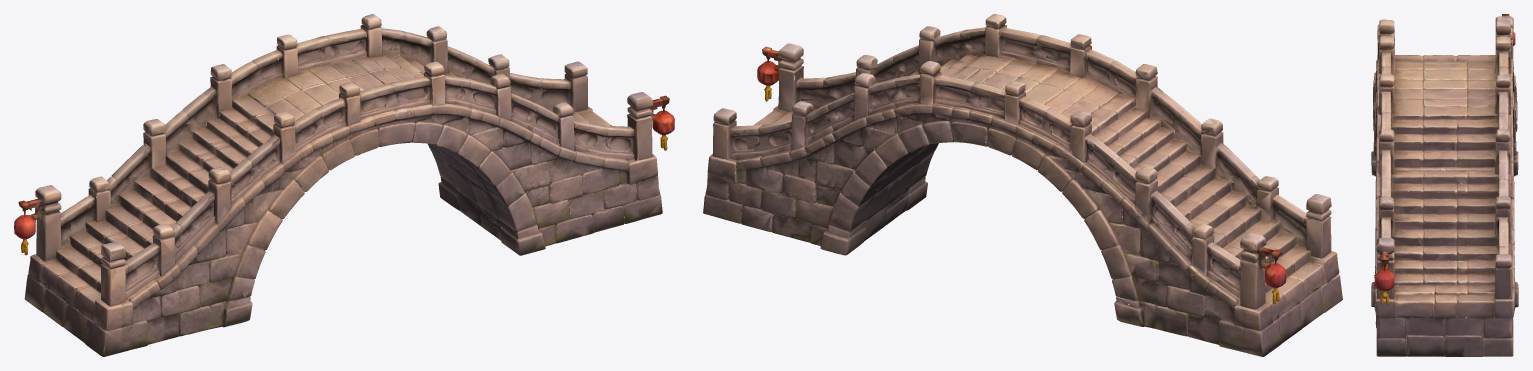
The model's file is bridge_60k.glb.
3 renders of one model, left to right at view 1: azimuth 30°, elevation 25°; view 2: azimuth 150°, elevation 25°; view 3: azimuth 270°, elevation 25°, orthographic. The views are drawn at different scales.
Visible parts, largest first — view 1: tripo_node_ad2899bc-5c0d-4ccc-bba2-4e1198475974; view 2: tripo_node_ad2899bc-5c0d-4ccc-bba2-4e1198475974; view 3: tripo_node_ad2899bc-5c0d-4ccc-bba2-4e1198475974.
Boxes of the visible parts, x1,y1,x2,y2 form: tripo_node_ad2899bc-5c0d-4ccc-bba2-4e1198475974: (14, 14, 674, 356); tripo_node_ad2899bc-5c0d-4ccc-bba2-4e1198475974: (703, 14, 1342, 356); tripo_node_ad2899bc-5c0d-4ccc-bba2-4e1198475974: (1371, 14, 1518, 356).
Bounding box in the file's own units: 0.9795 × 0.3251 × 0.2326.
1 material, 1 textured.
